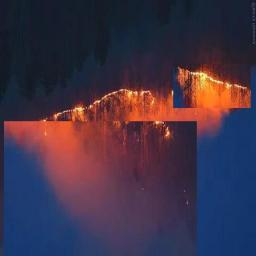Heavy smoke: (16, 126, 193, 245)
Medium fire: (54, 68, 252, 131)
